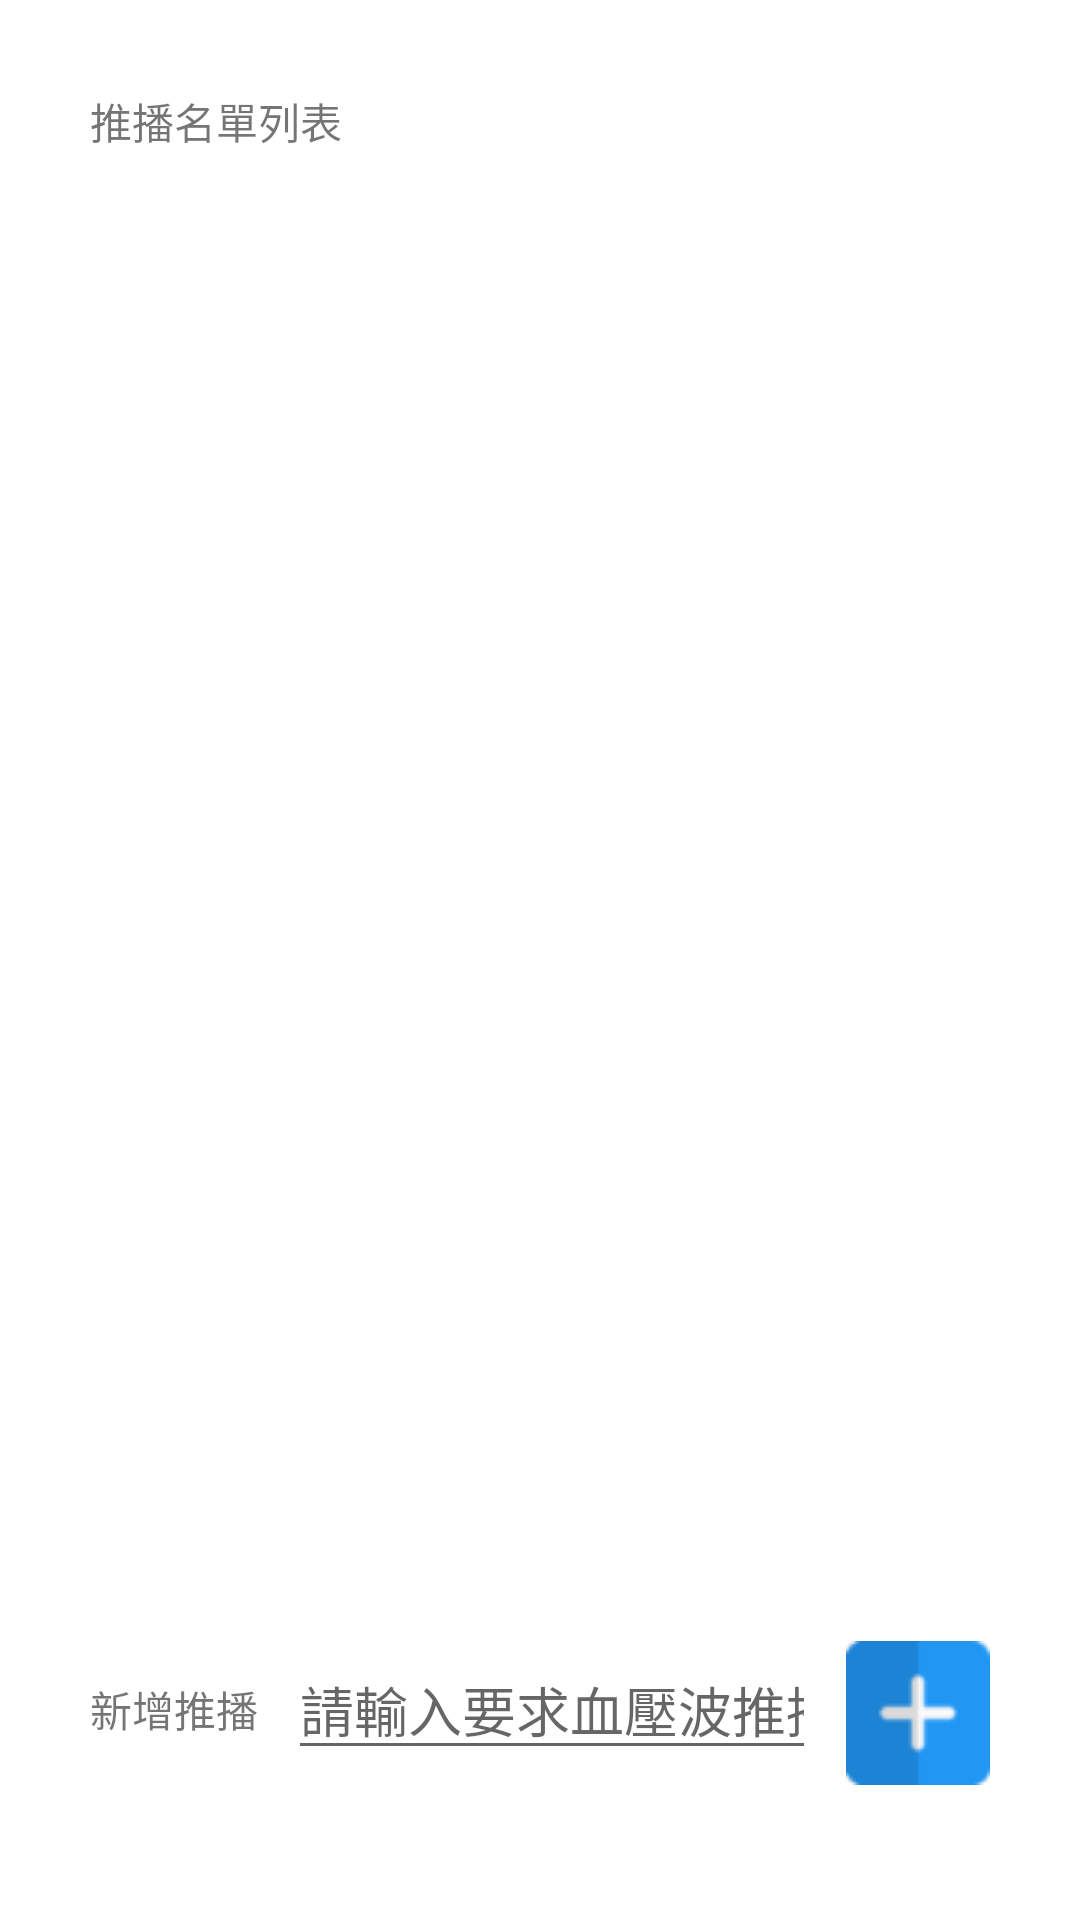

Where to tap for icons on this 1080px x 1920px app screen, as [x,y]:
plus: [918,1713]
